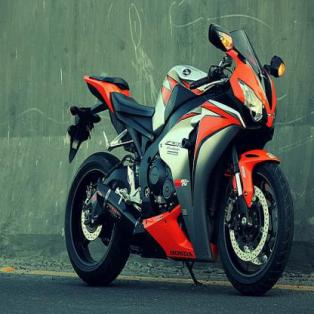Motocicleta: (58, 26, 294, 295)
